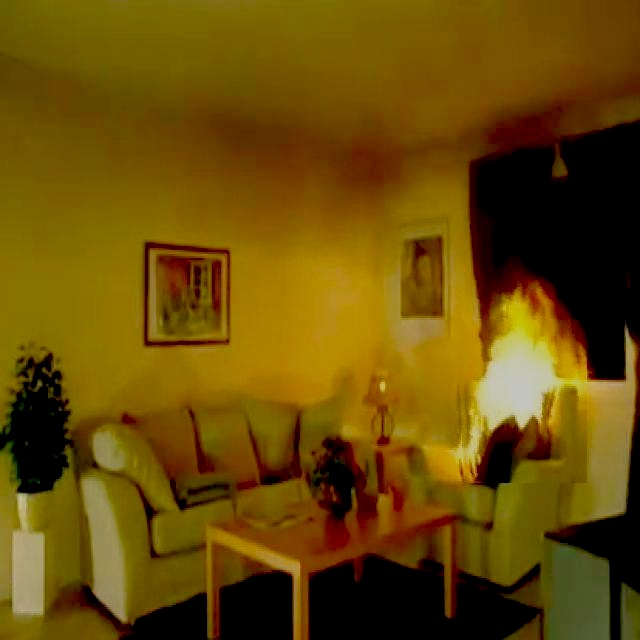fire: (442, 274, 588, 509)
